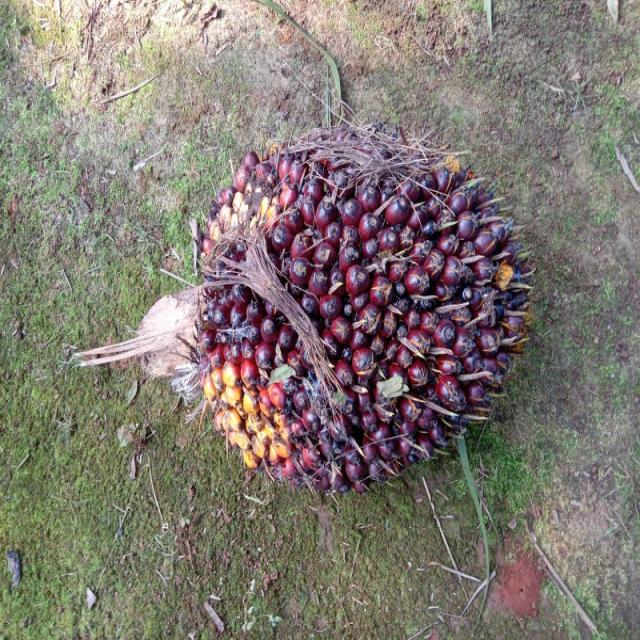fraksi 1: (114, 64, 568, 555)
